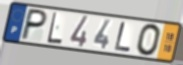4: (69, 14, 91, 49), (92, 18, 112, 51)
L: (113, 21, 133, 53), (46, 11, 64, 45)
O: (135, 23, 163, 58)
P: (18, 7, 49, 42)
